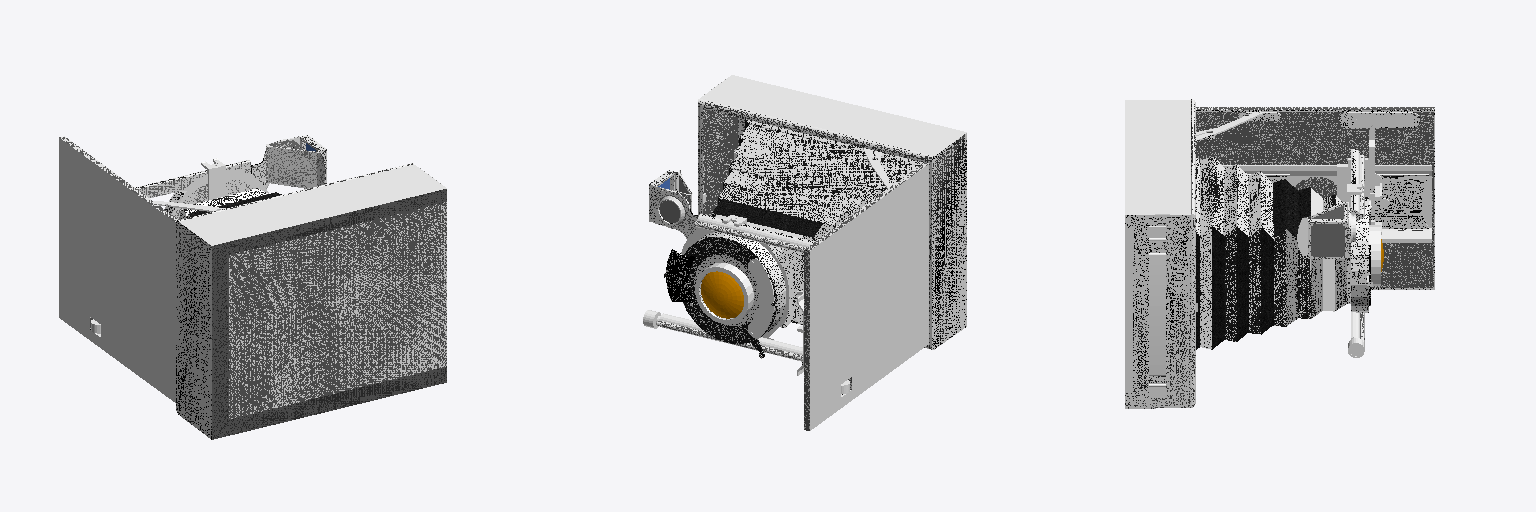
3 views of the same model, side by side, from view 1: azimuth 30°, elevation 25°; view 2: azimuth 150°, elevation 25°; view 3: azimuth 270°, elevation 25° (orthographic).
Visible parts, largest first — view 1: mesh1_mesh1-geometry, mesh2_mesh2-geometry, mesh3_mesh3-geometry, mesh18_mesh18-geometry; view 2: mesh1_mesh1-geometry, mesh2_mesh2-geometry, mesh3_mesh3-geometry, mesh12_mesh12-geometry; view 3: mesh1_mesh1-geometry, mesh2_mesh2-geometry, mesh3_mesh3-geometry, mesh6_mesh6-geometry, mesh19_mesh19-geometry, mesh18_mesh18-geometry.
Boxes of the visible parts, x1=… form: mesh1_mesh1-geometry: x1=59, y1=136, x2=446, y2=439; mesh2_mesh2-geometry: x1=136, y1=158, x2=281, y2=219; mesh3_mesh3-geometry: x1=165, y1=135, x2=326, y2=219; mesh18_mesh18-geometry: x1=268, y1=146, x2=325, y2=188; mesh1_mesh1-geometry: x1=698, y1=75, x2=966, y2=430; mesh2_mesh2-geometry: x1=643, y1=119, x2=922, y2=361; mesh3_mesh3-geometry: x1=649, y1=170, x2=789, y2=358; mesh12_mesh12-geometry: x1=666, y1=249, x2=694, y2=306; mesh1_mesh1-geometry: x1=1125, y1=99, x2=1434, y2=408; mesh2_mesh2-geometry: x1=1196, y1=124, x2=1381, y2=357; mesh3_mesh3-geometry: x1=1308, y1=197, x2=1383, y2=312; mesh6_mesh6-geometry: x1=1370, y1=174, x2=1428, y2=230; mesh19_mesh19-geometry: x1=1149, y1=253, x2=1165, y2=375; mesh18_mesh18-geometry: x1=1297, y1=202, x2=1344, y2=255.
Bounding box in the file's own units: 0.5535 × 0.421 × 0.6077.
53 materials, 9 textured.